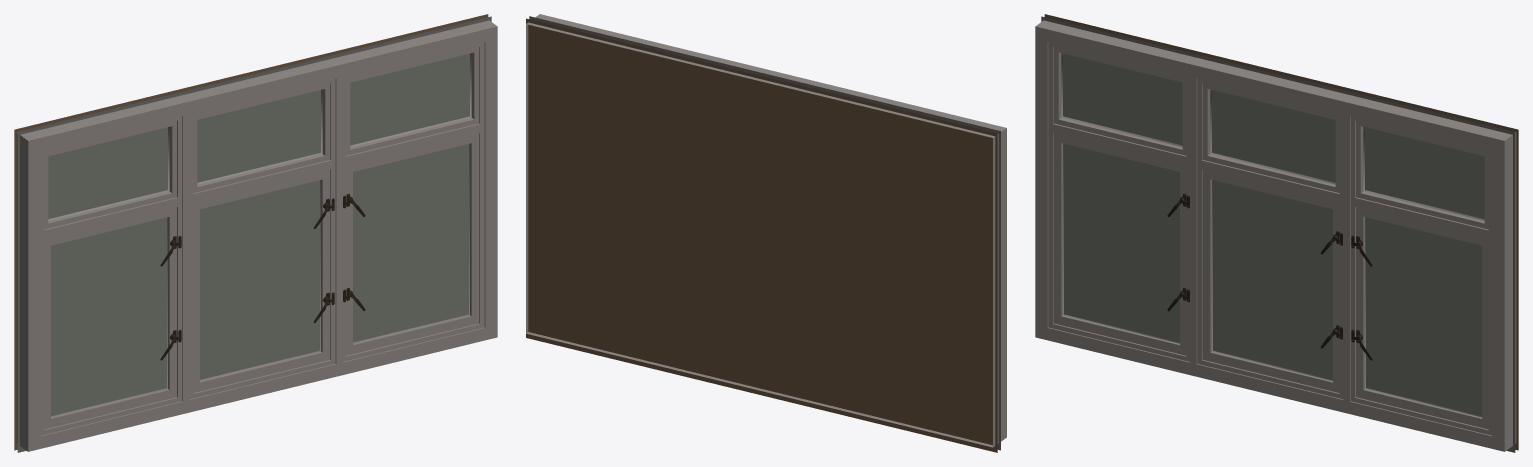
The model's file is window_group.fbx.
3 views of the same model, side by side, from view 1: azimuth 30°, elevation 25°; view 2: azimuth 150°, elevation 25°; view 3: azimuth 330°, elevation 25° (orthographic).
Parts seen in each view (by area): view 1: window, newspaper1, wood_board1; view 2: wood_board1, window, newspaper1; view 3: window, newspaper1, wood_board1.
Boxes of the visible parts, x1,y1,x2,y2 form: window: [16, 20, 497, 451]; newspaper1: [17, 16, 491, 452]; wood_board1: [14, 14, 488, 450]; wood_board1: [526, 18, 997, 452]; window: [526, 14, 1006, 447]; newspaper1: [529, 16, 1000, 450]; window: [1035, 20, 1516, 451]; newspaper1: [1041, 16, 1515, 452]; wood_board1: [1044, 14, 1518, 450].
Size of the model in its own units: 1.86 by 1.2 by 0.1021.
